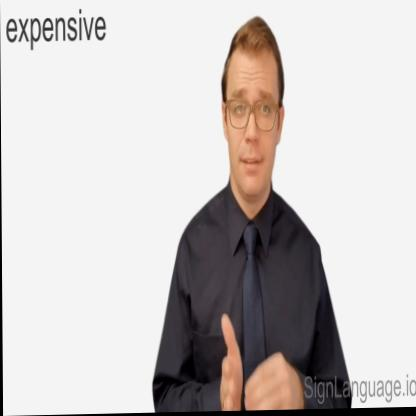Expensive: (213, 311, 313, 412)
